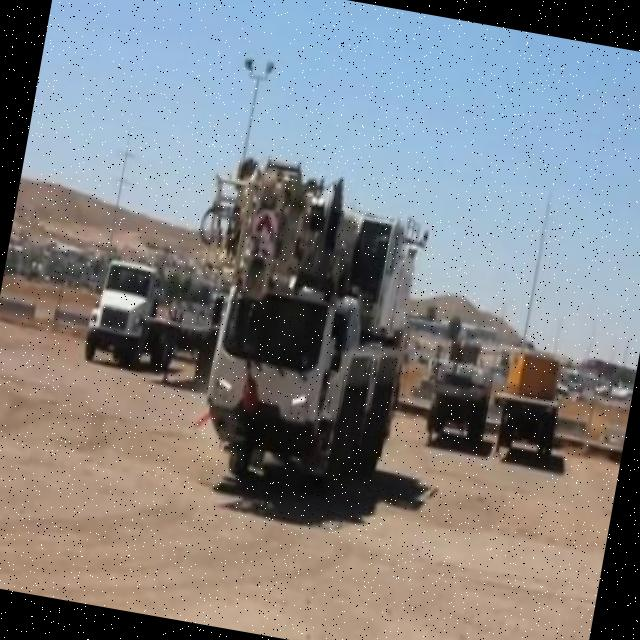Mobile Crane: (163, 148, 431, 492)
